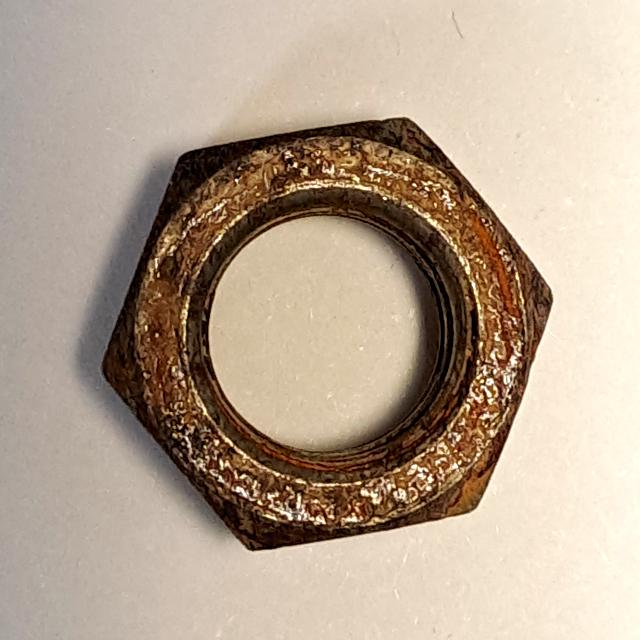Rust: (89, 98, 564, 571)
